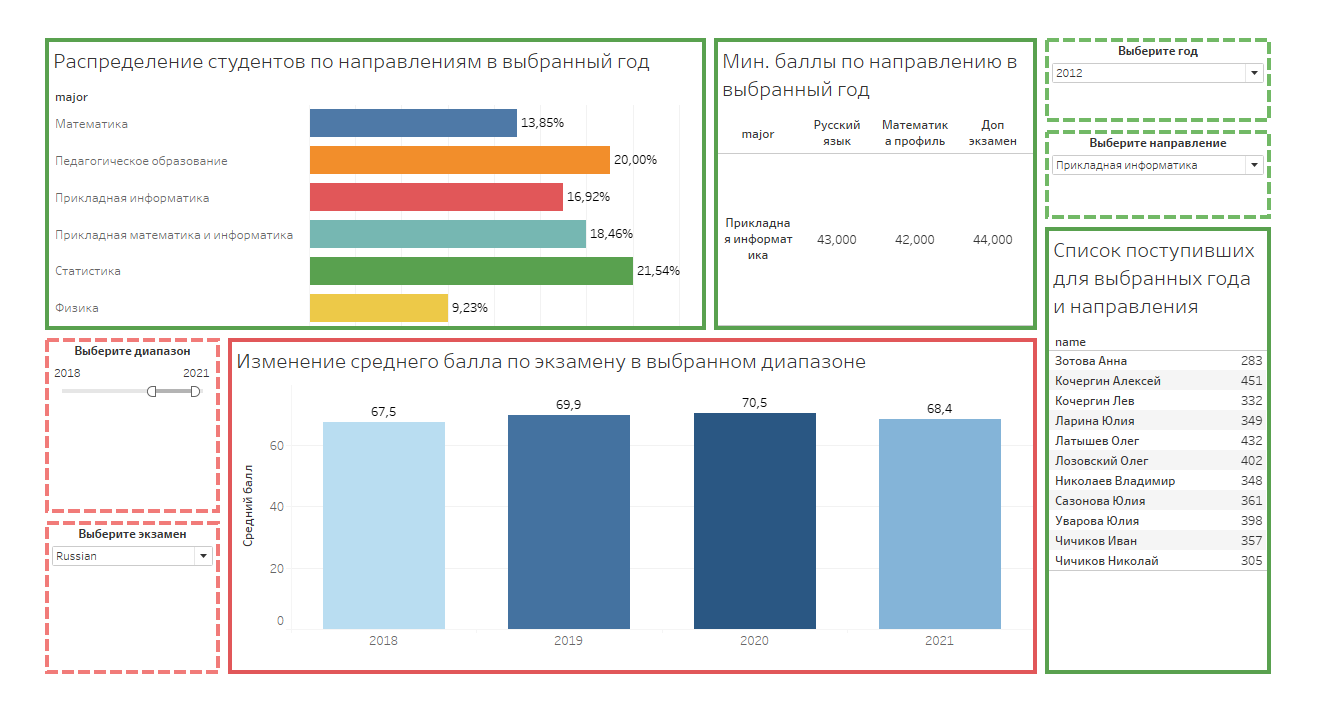

This screenshot's page, from the dashboard's own definition file:
{"tool":"tableau","page":{"name":"Dashboard 1","canvas":[1000,1000],"units":"permille","ordinal":0},"visuals":[{"type":"worksheet","title":"Распределение студентов по направлениям в выбранный год","mark":"Automatic","rows":["major"],"cols":["year of admission"],"box":[6.9,13.5,524.2,453.4]},{"type":"worksheet","title":"Мин. баллы по направлению в выбранный год","mark":"Automatic","rows":["major"],"box":[531.1,13.5,259.3,453.4]},{"type":"filter","title":"Распределение студентов по направлениям в выбранный год","param":"[federated.1pj9n0g1a2g7sc143tfn31342934].[none:year of admission (copy)_69862089","box":[790.5,13.5,202.6,155.4]},{"type":"filter","title":"Мин. баллы по направлению в выбранный год","param":"[federated.1pj9n0g1a2g7sc143tfn31342934].[none:major:nk]","box":[790.5,168.9,202.6,163.8]},{"type":"worksheet","title":"Список поступивших для выбранных года и направления","mark":"Automatic","rows":["name"],"box":[790.5,332.8,202.6,653.7]},{"type":"filter","title":"Изменение среднего балла по экзамену в выбранном диапазоне","param":"[federated.1pj9n0g1a2g7sc143tfn31342934].[none:year of admission:qk]","box":[6.9,466.9,143.2,276.2]},{"type":"worksheet","title":"Изменение среднего балла по экзамену в выбранном диапазоне","mark":"Automatic","rows":["Calculation_698620897775050753"],"cols":["year of admission"],"box":[150.1,466.9,640.3,519.6]},{"type":"parameter","param":"[Parameters].[Parameter 1]","box":[6.9,743.1,143.2,243.4]}]}

Visuals, with their boxes on the dashboard's canvas, which has no fixed pixel size, in thousandths of its width and height (x1, y1, x2, y2). These are canvas units, not pixel positions in the 1321x706 screenshot, which may show the page scaled, cropped or inside an application window:
"Распределение студентов по направлениям в выбранный год" worksheet: 7/14/531/467
"Мин. баллы по направлению в выбранный год" worksheet: 531/14/790/467
"Распределение студентов по направлениям в выбранный год" filter: 790/14/993/169
"Мин. баллы по направлению в выбранный год" filter: 790/169/993/333
"Список поступивших для выбранных года и направления" worksheet: 790/333/993/986
"Изменение среднего балла по экзамену в выбранном диапазоне" filter: 7/467/150/743
"Изменение среднего балла по экзамену в выбранном диапазоне" worksheet: 150/467/790/986
parameter: 7/743/150/986
